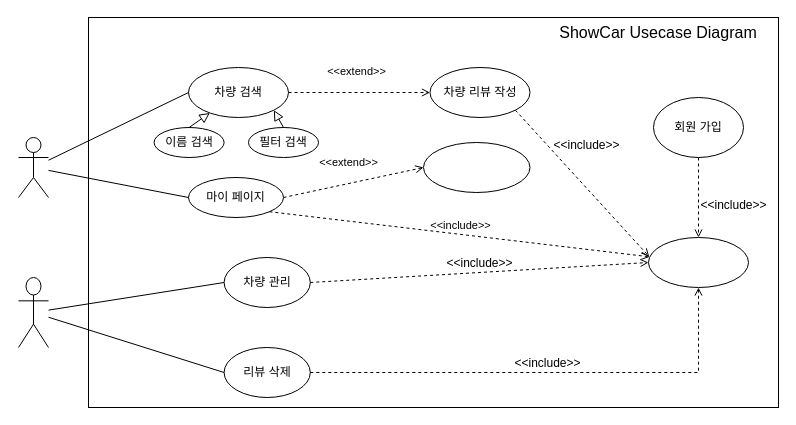
This 796x425 diagram has some shape labels left out. The box of each missing label's shape, as (x1, y1, x2, y2) in pixels:
User: (18, 136, 48, 198)
관리자: (18, 276, 48, 348)
로그인: (648, 236, 748, 288)
사용자 정보 수정: (422, 142, 530, 192)
